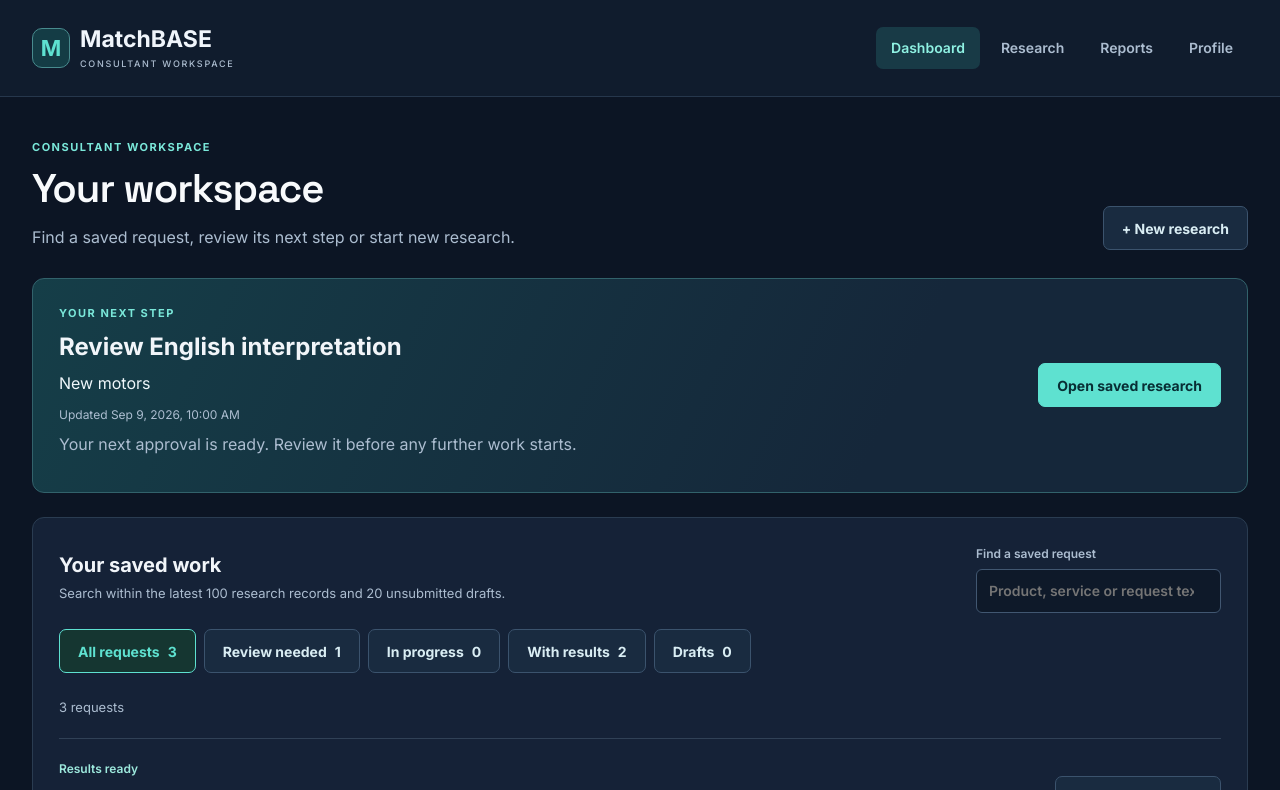
Test case: MB-UX-SIMPLIFY-001 L01 finding and returning to saved work › keeps status totals stable during search and clears the query and filter together
Click the button "With results 2" at (577, 651), box [508,629,646,673]
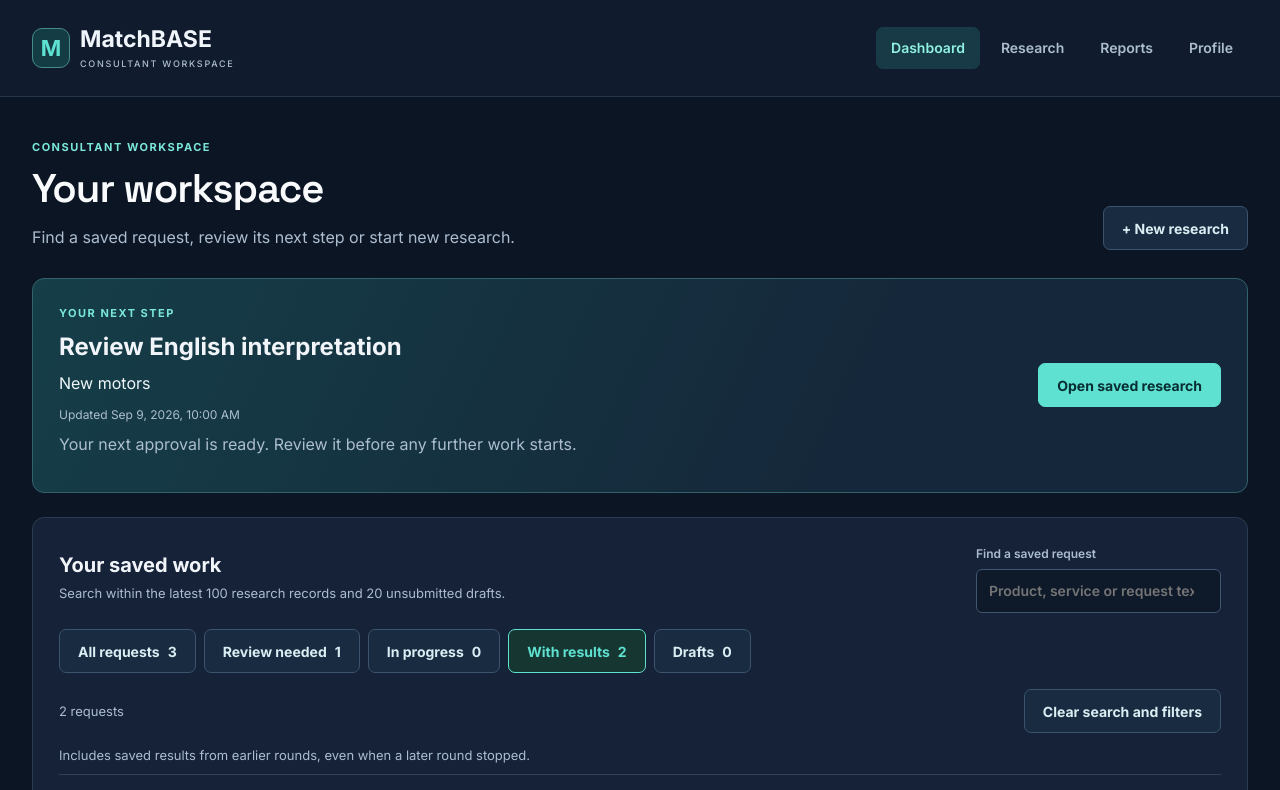
Type "  PUMPS  industrial " into the search field at (1098, 591), box [976,569,1221,613]
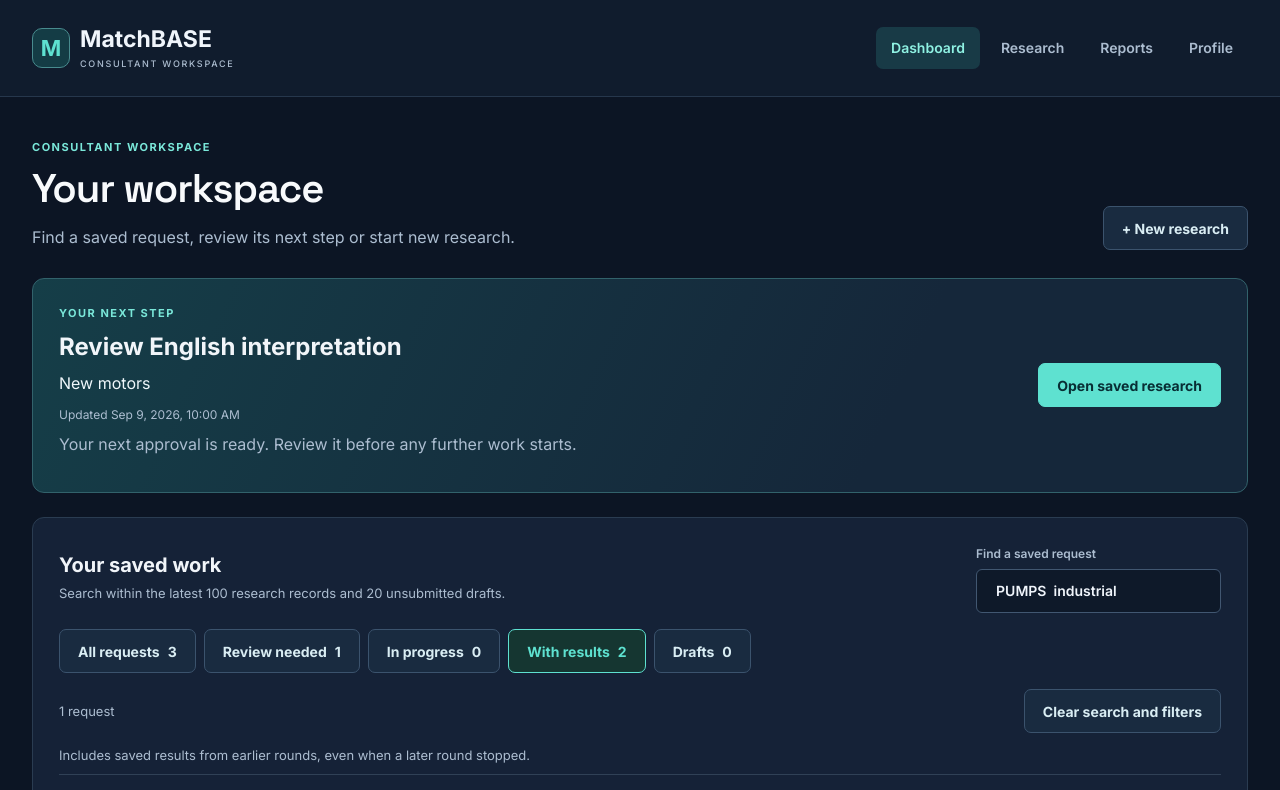
Expected: the button "With results 2" is shown, [508,629,646,673]
Expected: the button "All requests 3" is shown, [59,629,196,673]
Replace the text in the search field with "unmatched" at (1098, 591), box [976,569,1221,613]
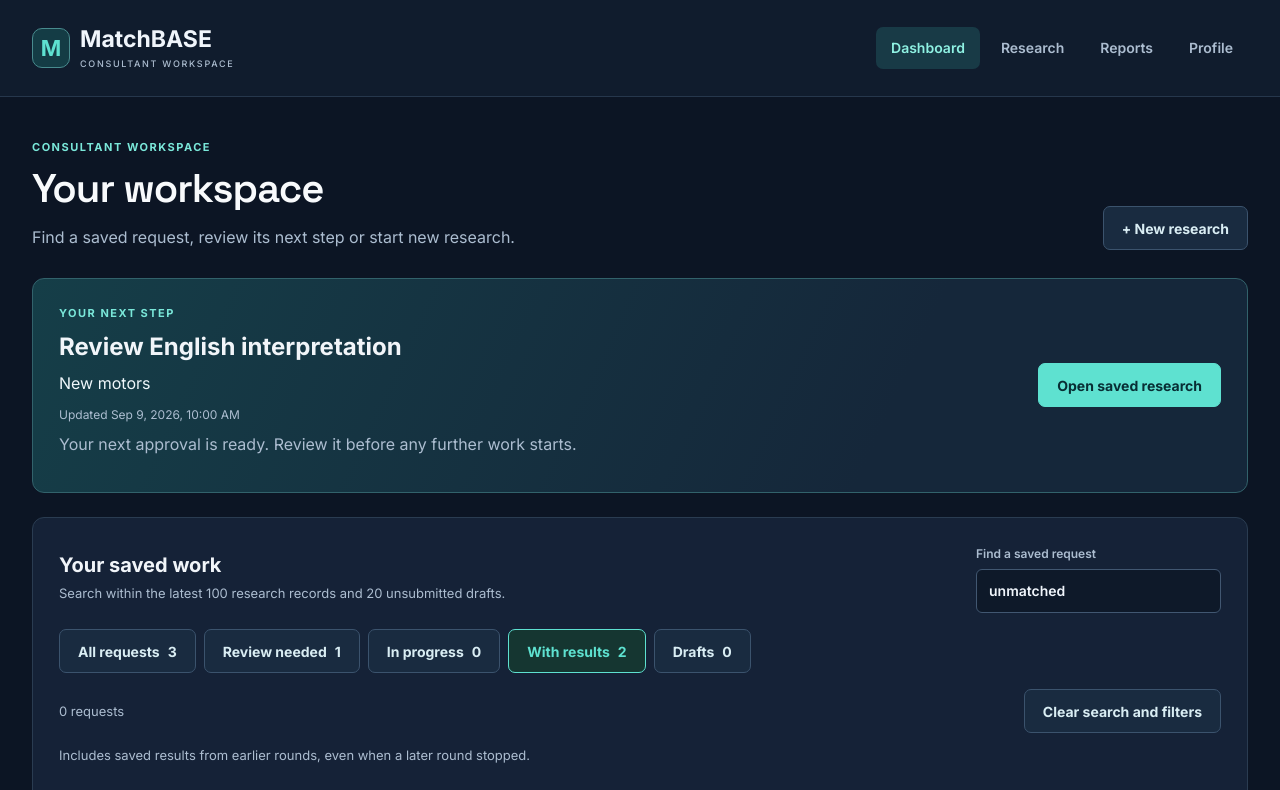
Click the button "Clear search and filters" at (1122, 711), box [1024,689,1221,733]
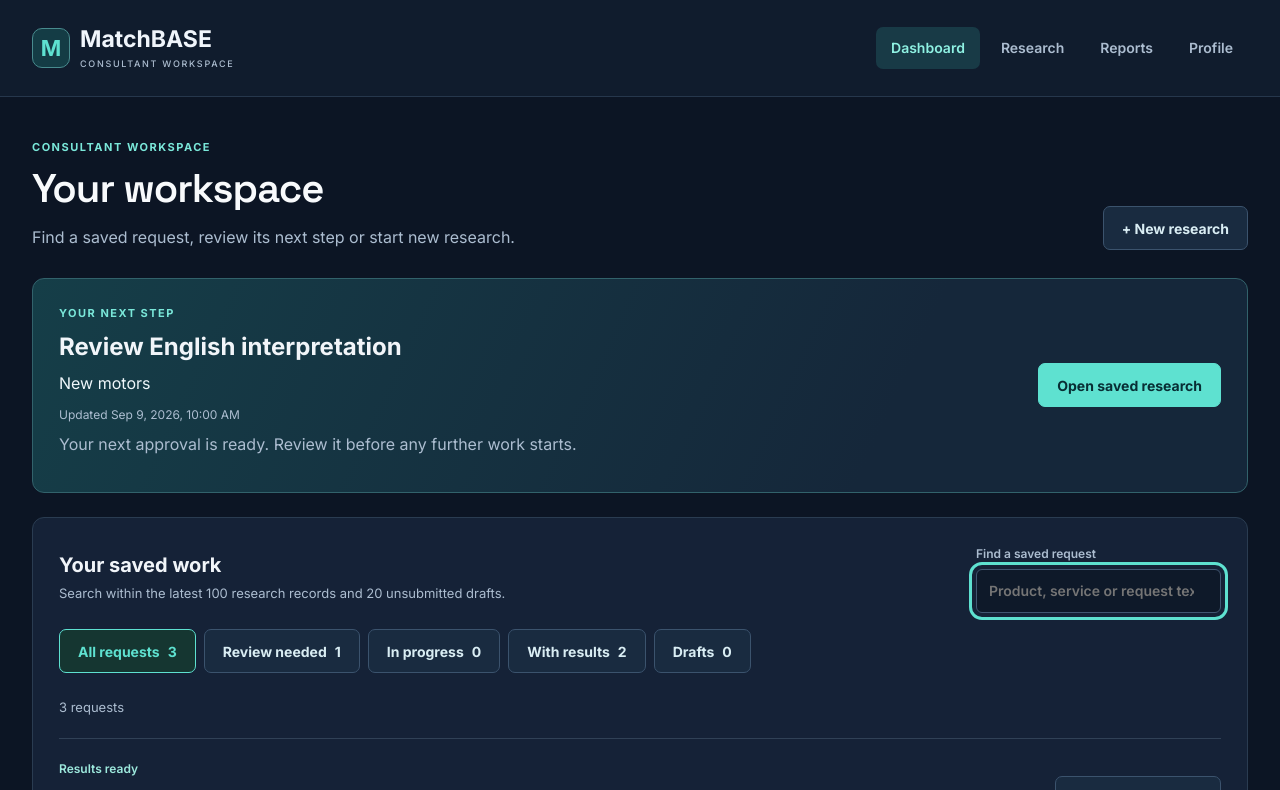
Result: the search field is empty at [976,569,1221,613]
Result: the number of list items is 3
